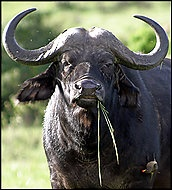buffalo: (2, 7, 170, 188)
